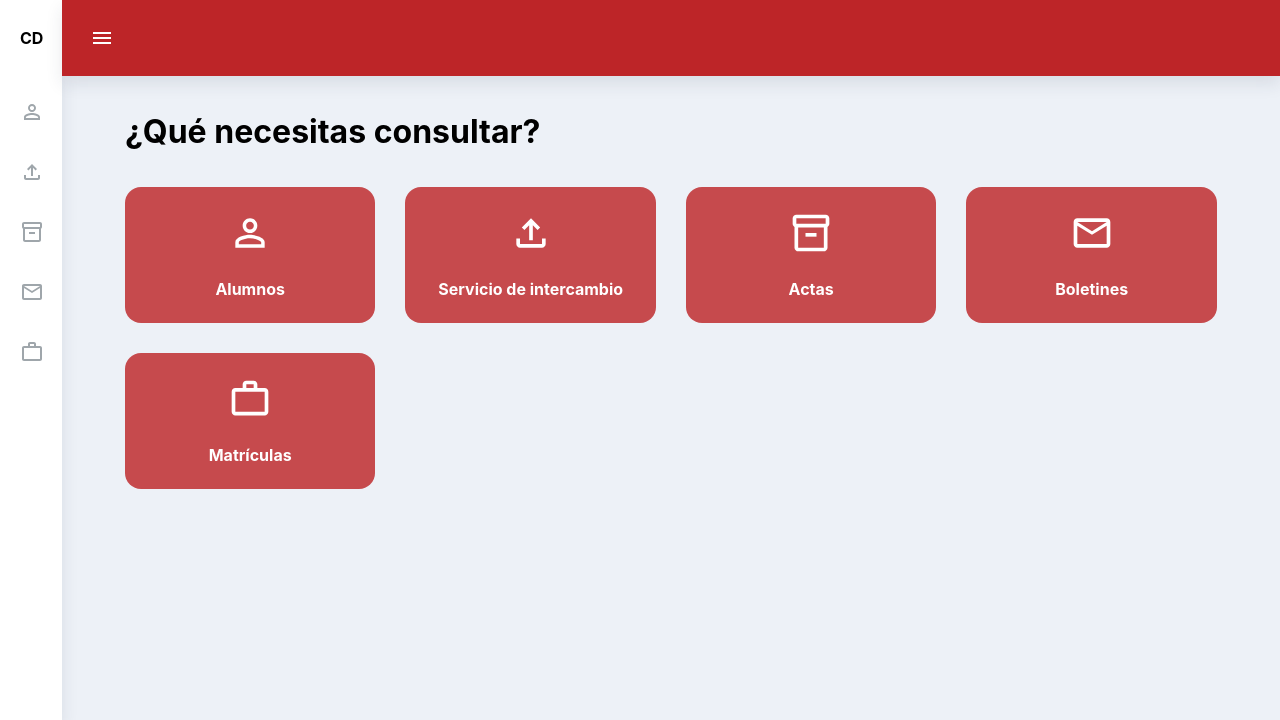
Test: Bloque de alumnos › Visitar apartado de alumnos
What coordinates should you click on to do the following:
click the link "Alumnos"
I would click on:
 (251, 255)
Its box is [125, 187, 376, 323].
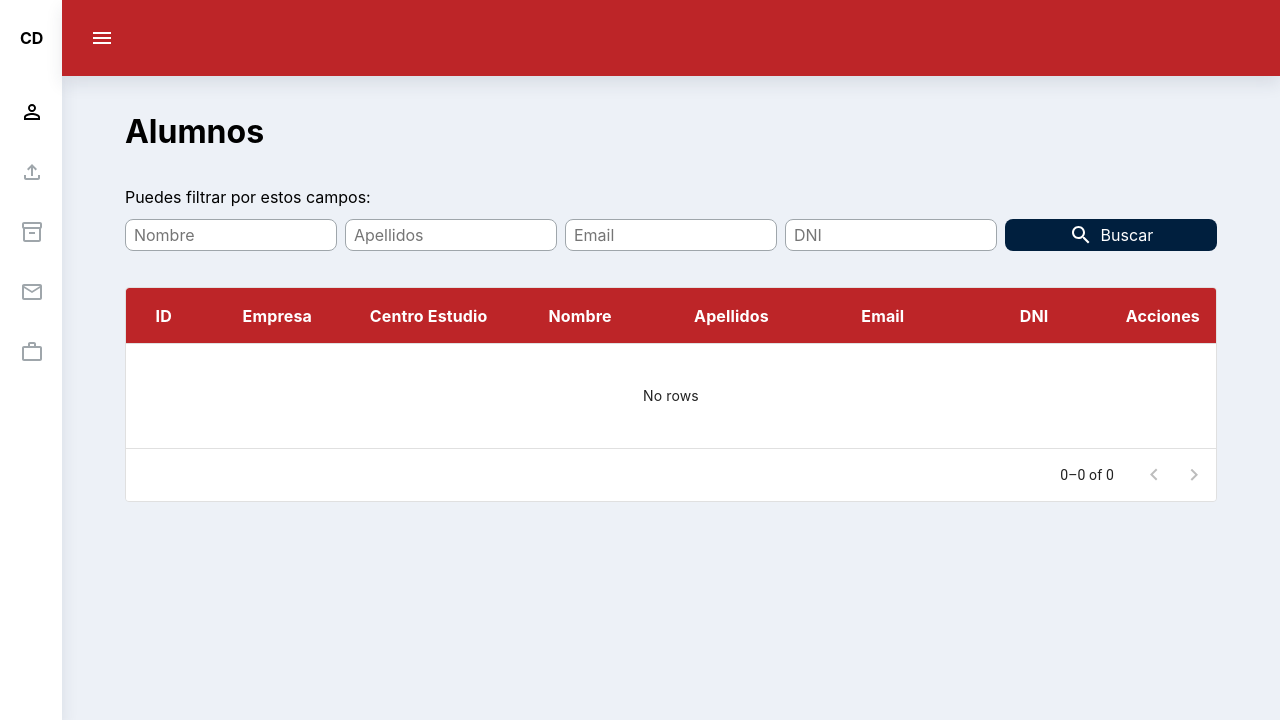
Now the heading "Alumnos" is shown, box [125, 112, 264, 151]
Now the text "Puedes filtrar por estos campos" is shown, box [125, 187, 371, 207]
